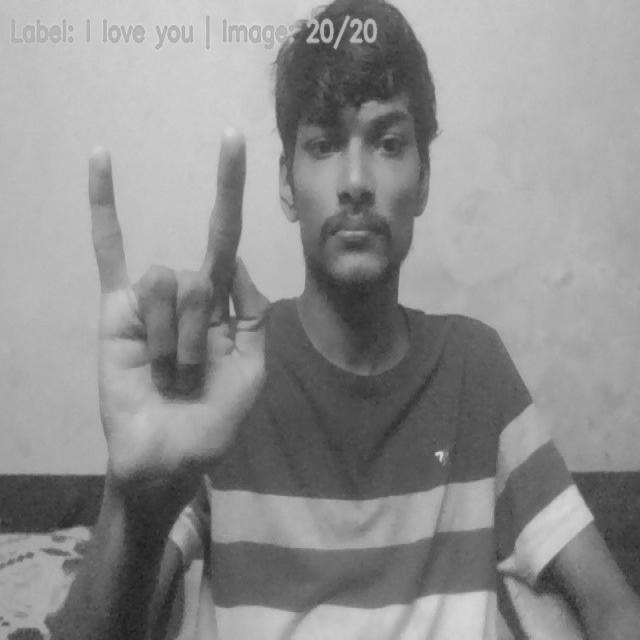I love you: (82, 125, 268, 494)
